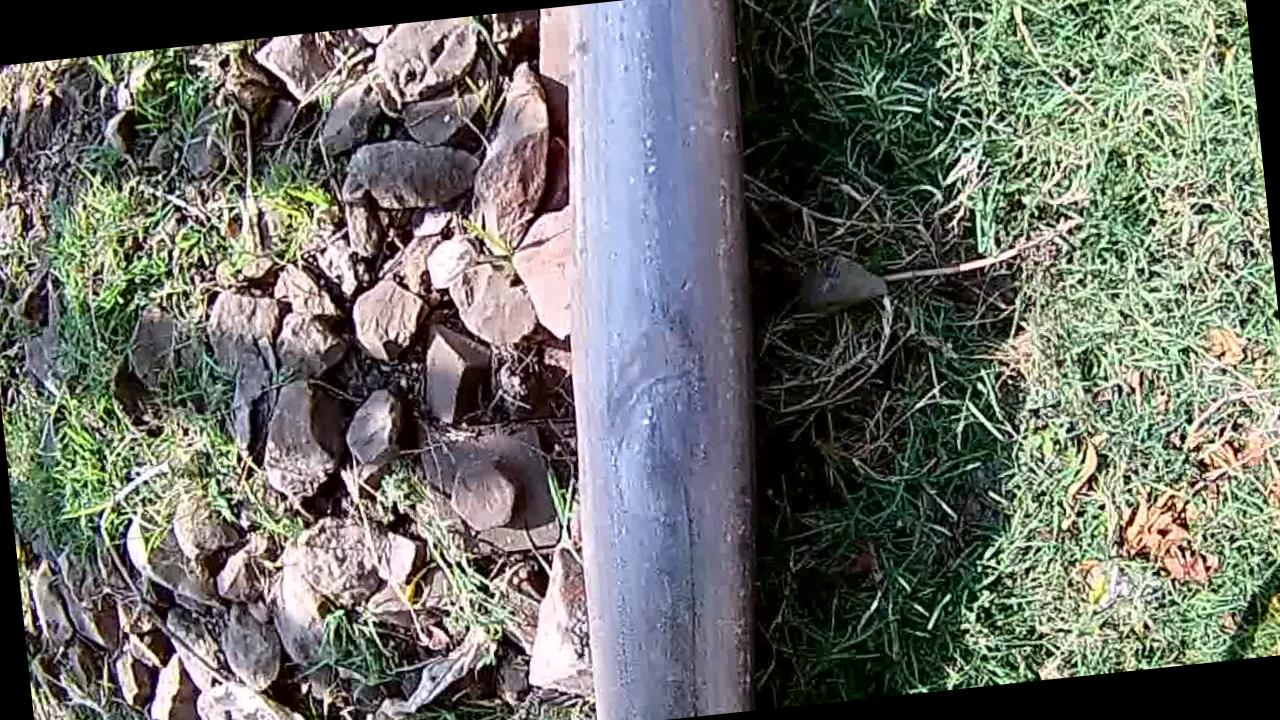bolt_missing: (556, 228, 768, 616)
